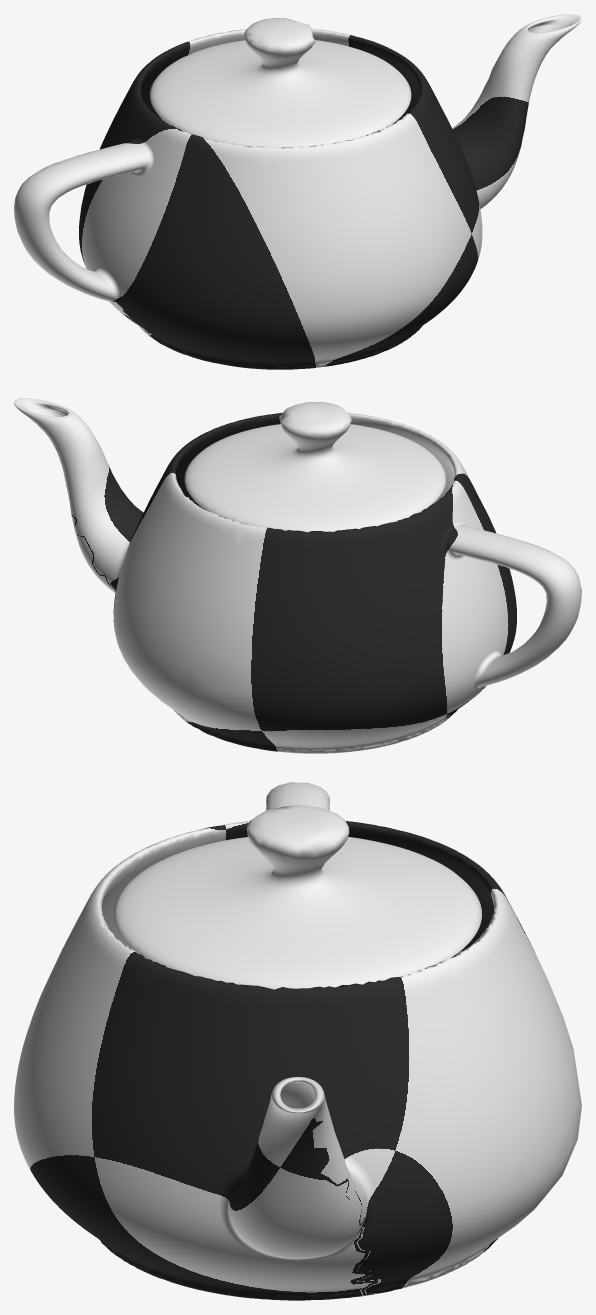
The model's file is teapot_cgal_arap_result.glb.
3 views of the same model, one above another, from view 1: azimuth 30°, elevation 25°; view 2: azimuth 150°, elevation 25°; view 3: azimuth 270°, elevation 25° (orthographic). The views are drawn at different scales.
Size of the model in its own units: 163 by 80.01 by 102.
1 material, 1 textured.
